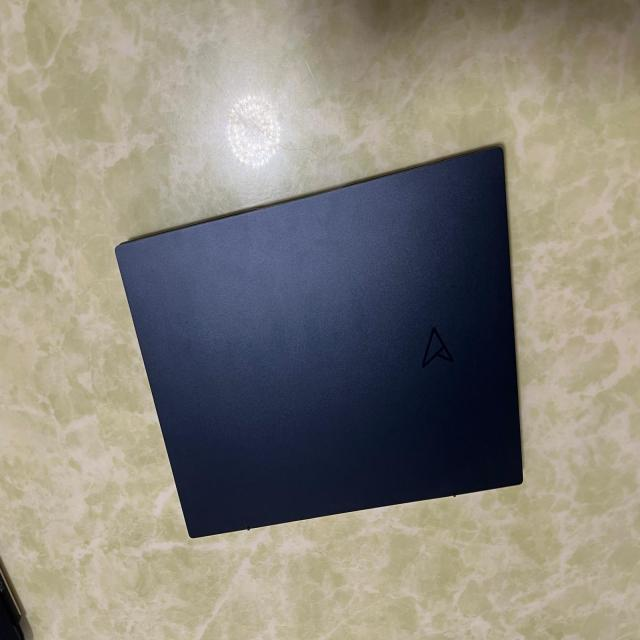laptop: (113, 141, 524, 538)
